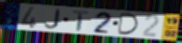2: (92, 10, 114, 35), (142, 14, 162, 39)
4: (20, 6, 39, 30)
D: (117, 12, 141, 36)
J: (44, 9, 61, 29)
T: (72, 10, 90, 32)
